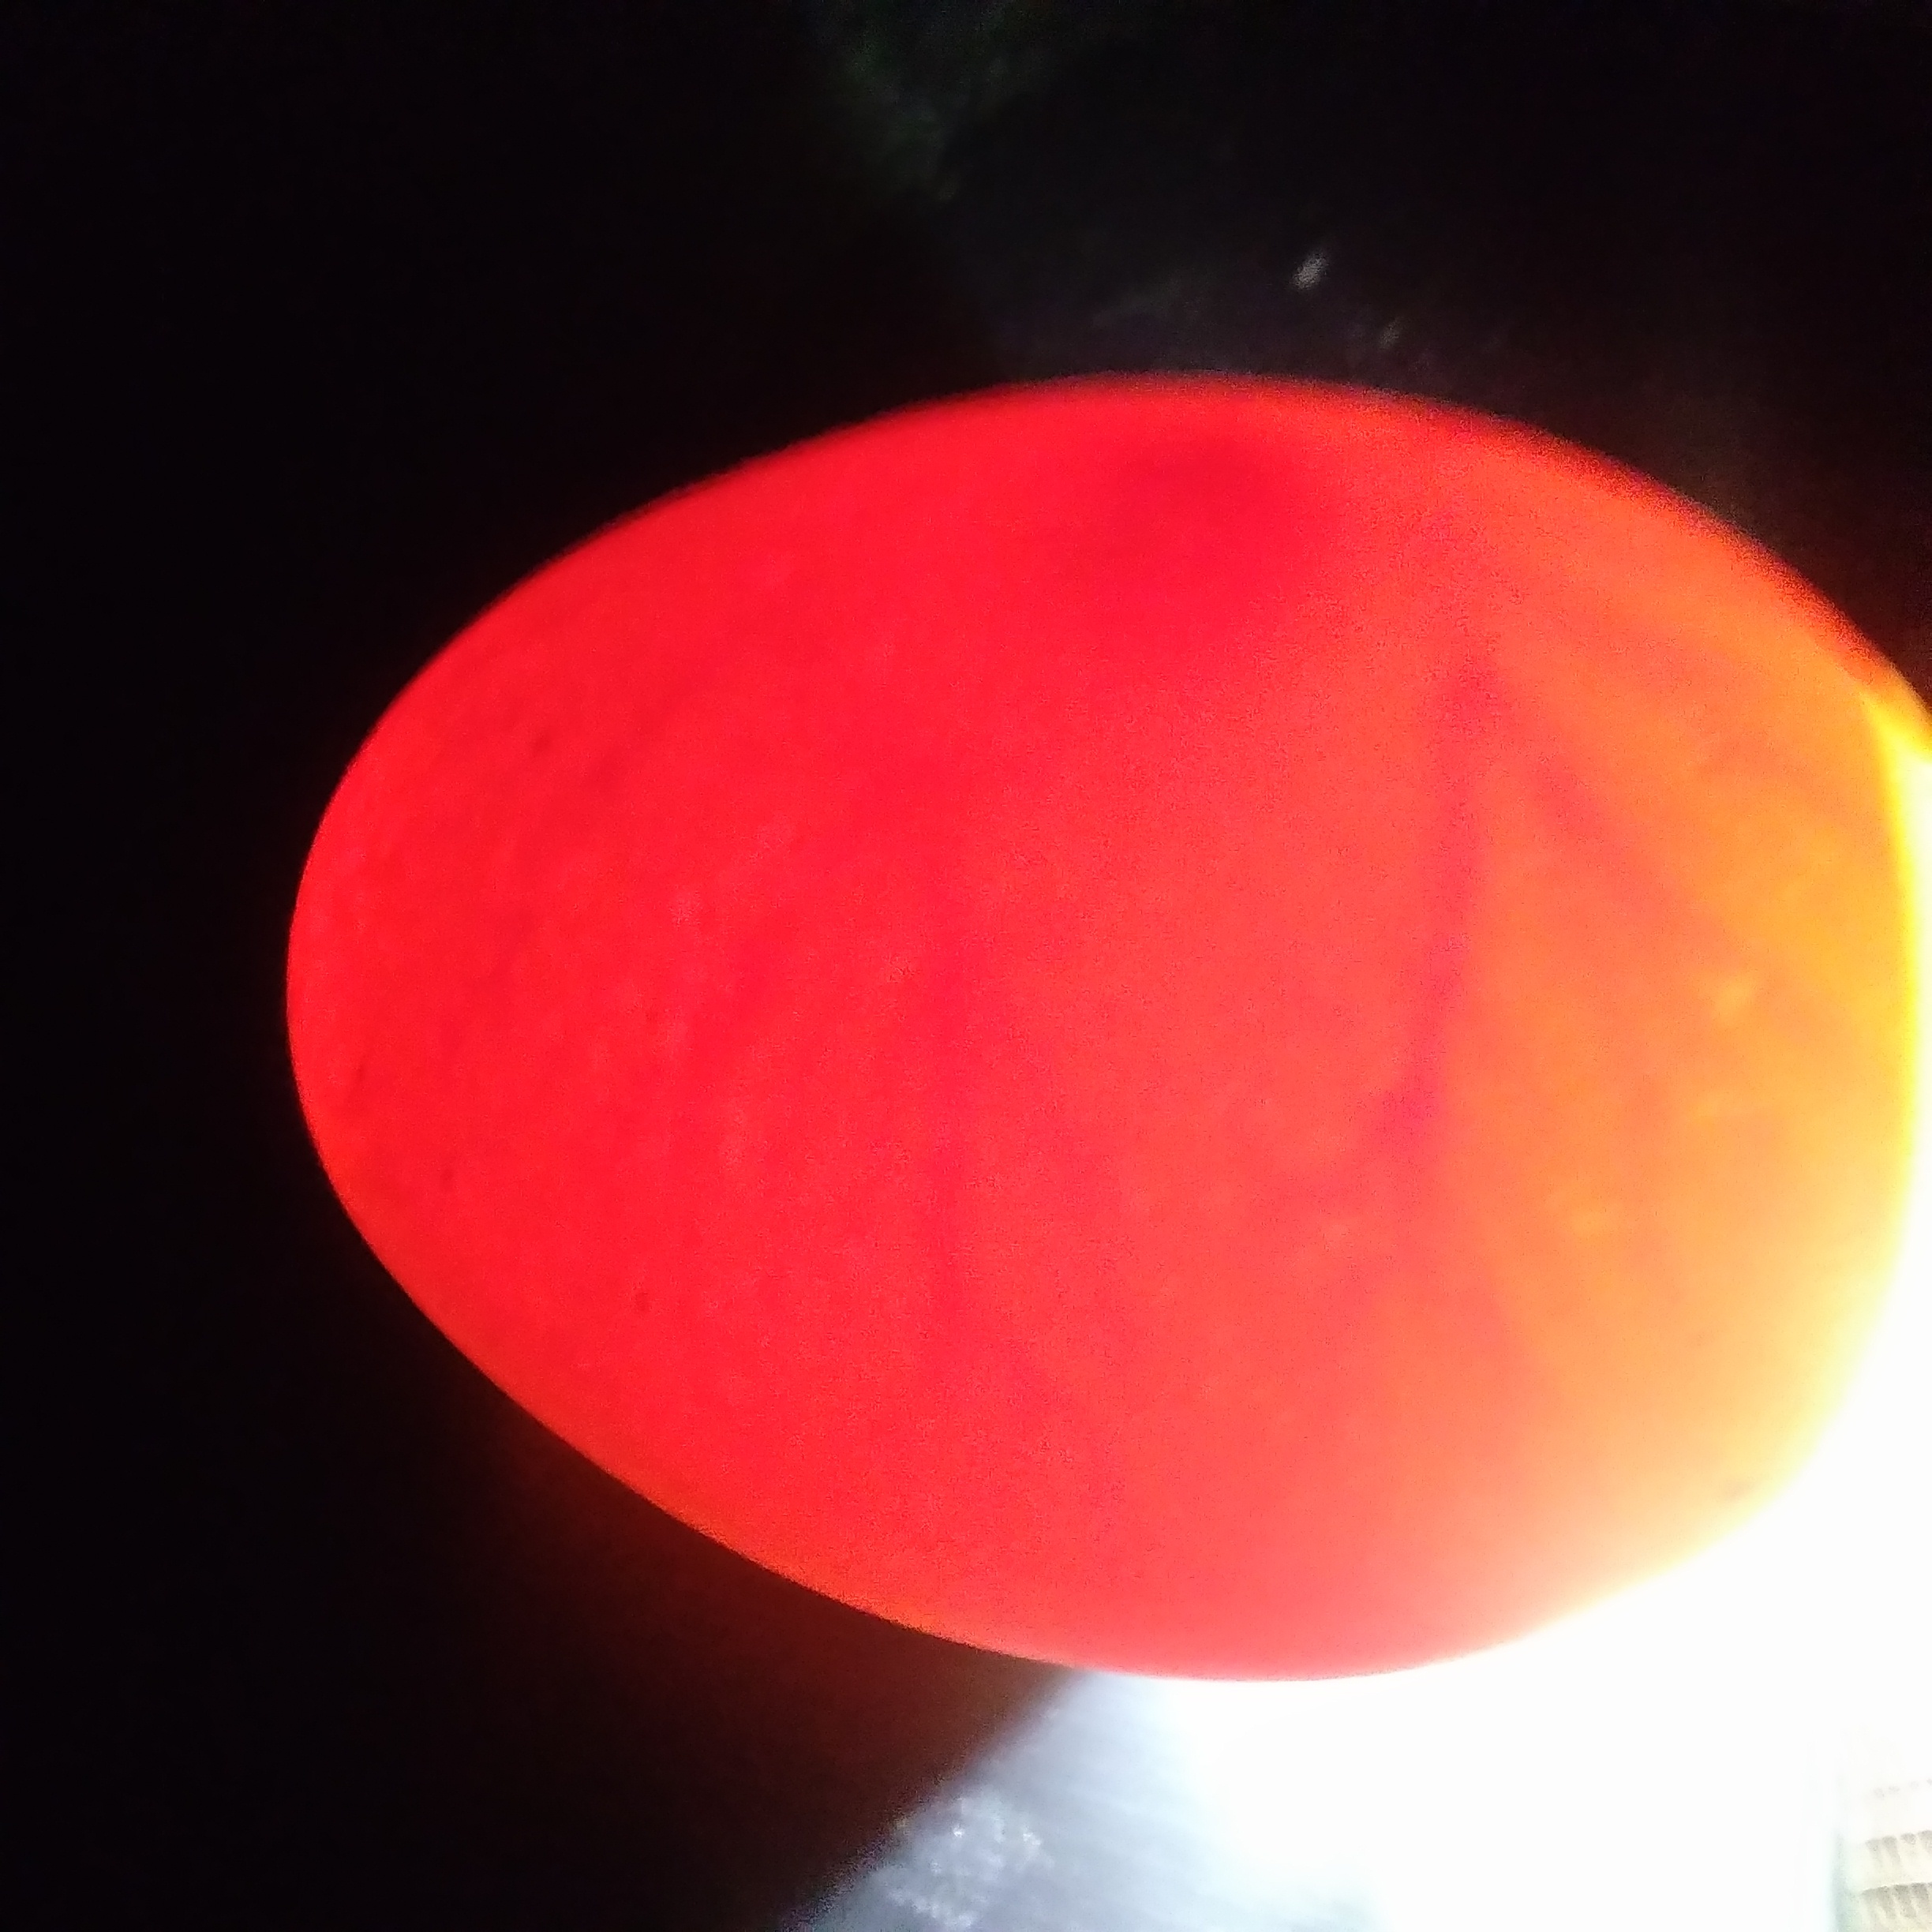bloodcell: (1364, 453, 1815, 1382)
embryo: (1129, 425, 1258, 557)
